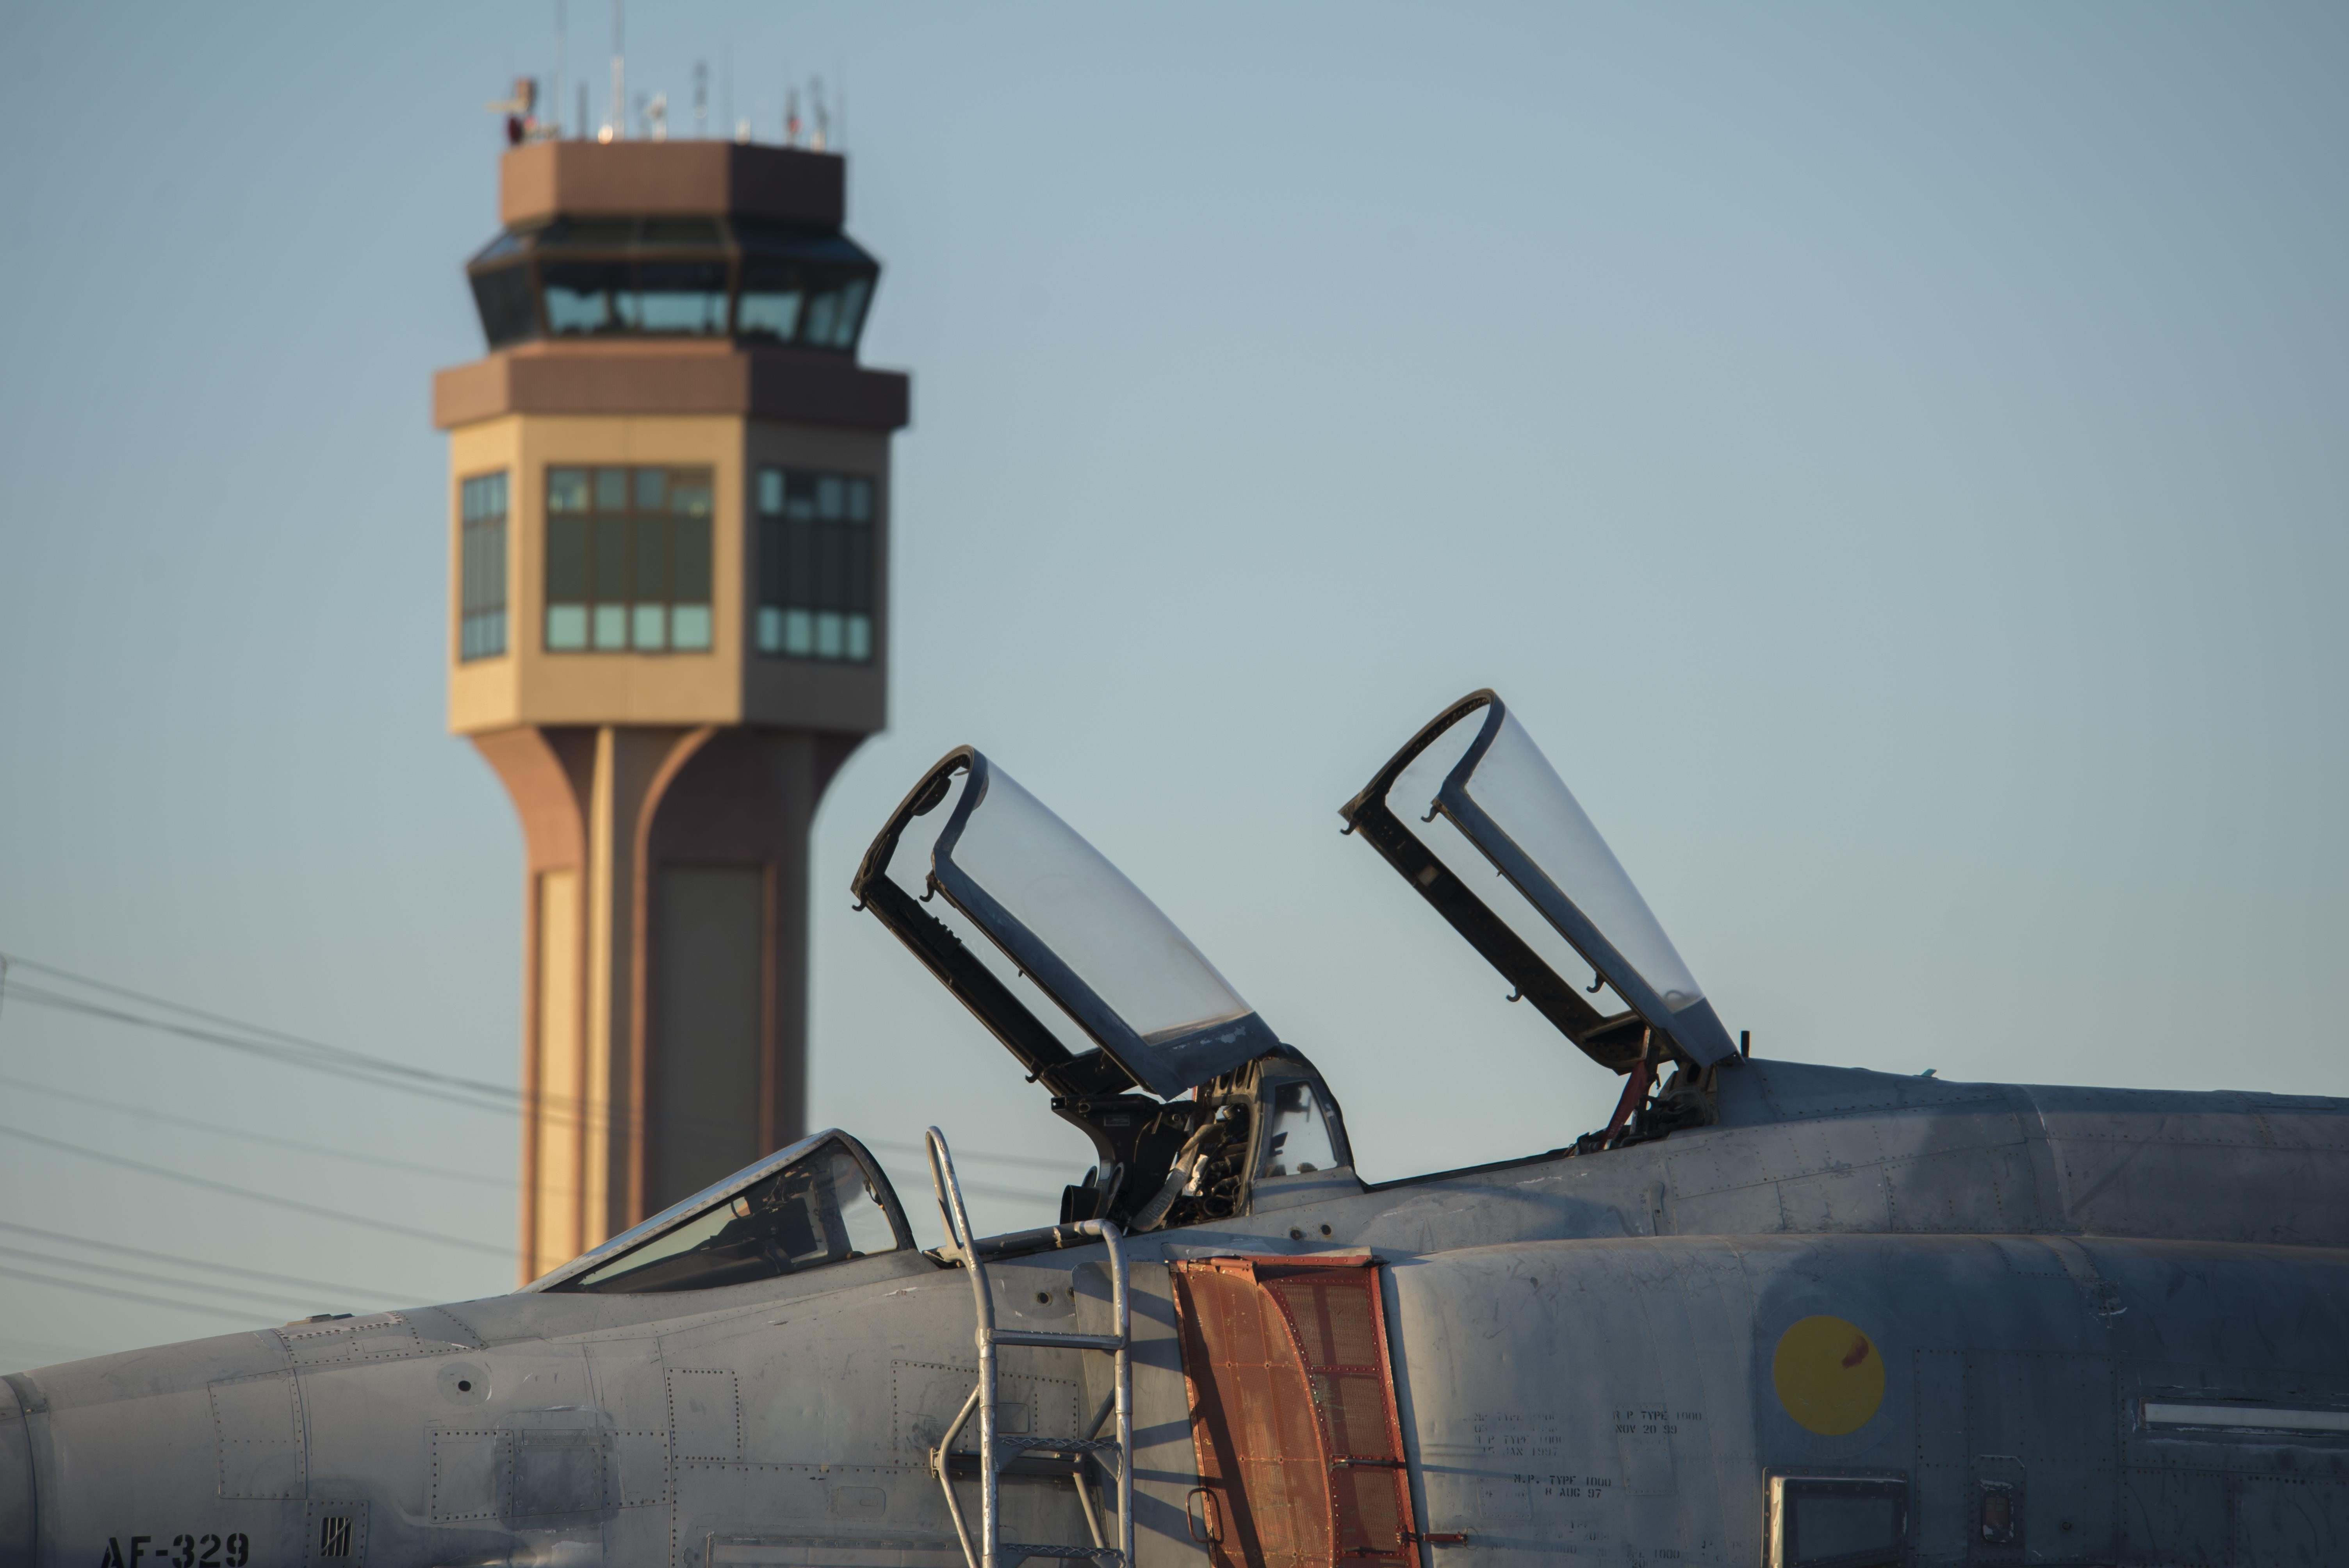F4: (0, 686, 2349, 1568)
